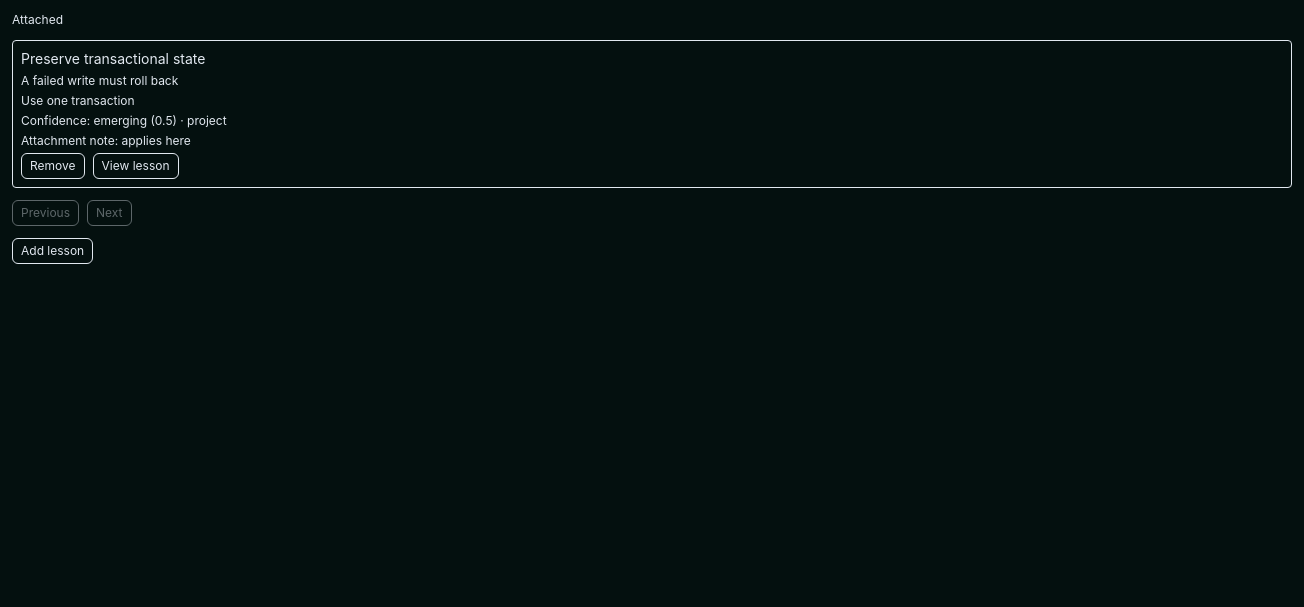
Test: attaches a searched lesson and prevents duplicate submissions while pending
Click the button "Add lesson".
click(53, 251)  # box x1=12 y1=238 x2=93 y2=264
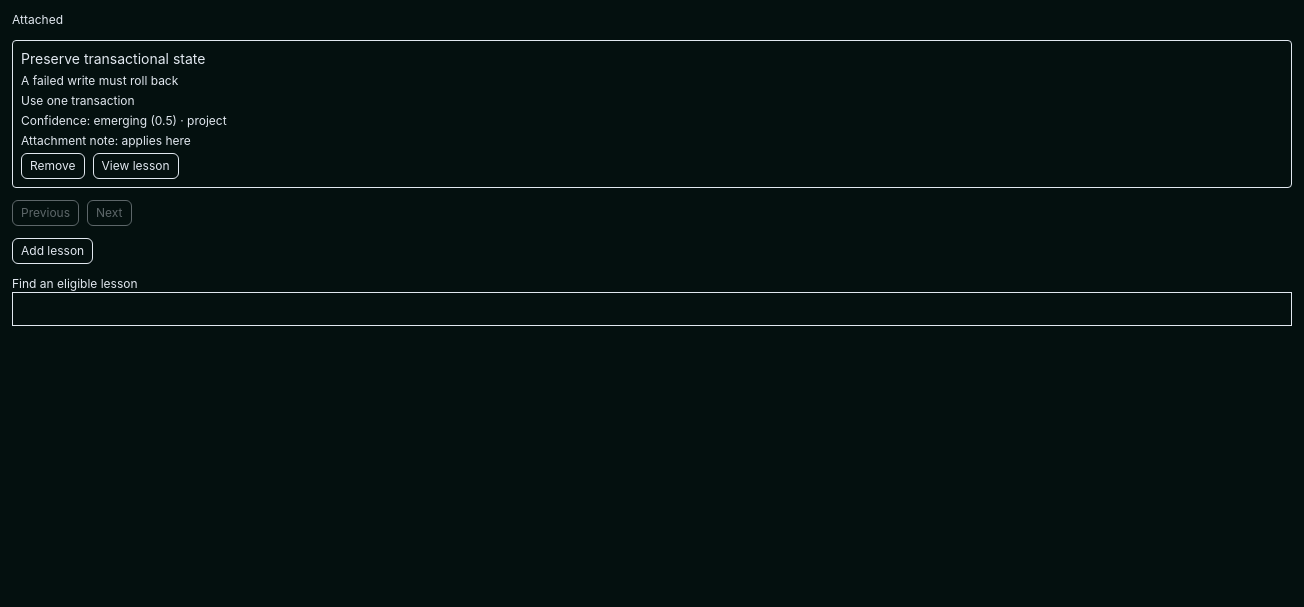
Type "transaction" into the field labelled "Find an eligible lesson".
click(652, 309); type("transaction")  # box x1=12 y1=292 x2=1292 y2=326
Wait 200 ms
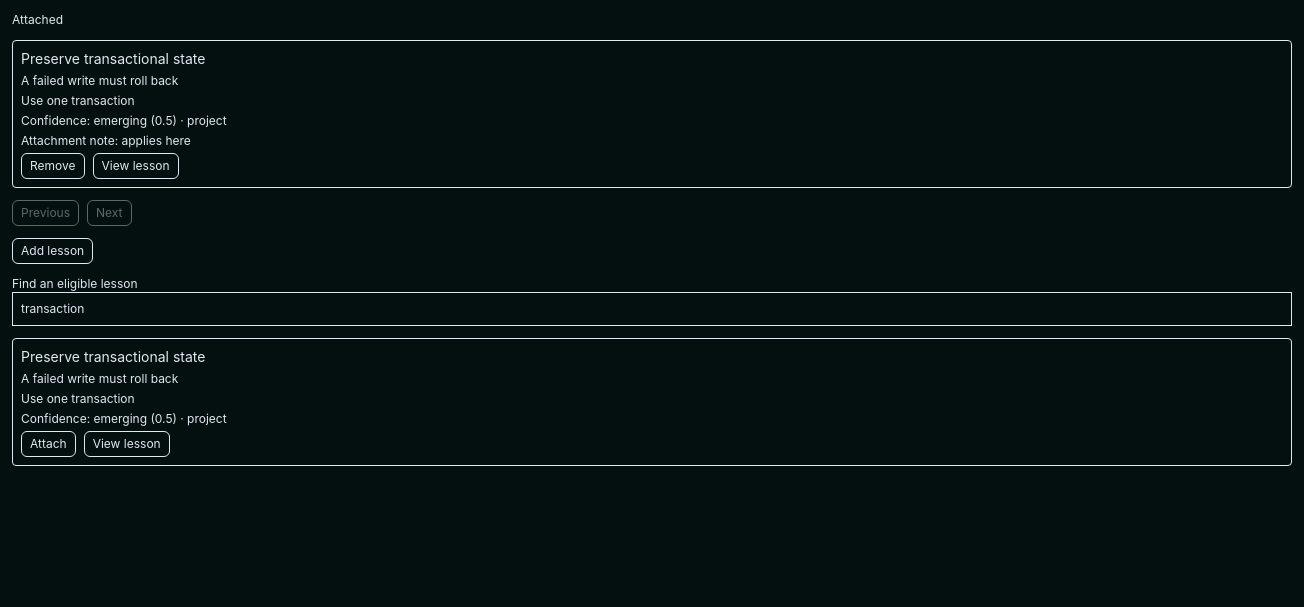
Click the button "Attach".
click(48, 444)  # box x1=21 y1=431 x2=76 y2=457
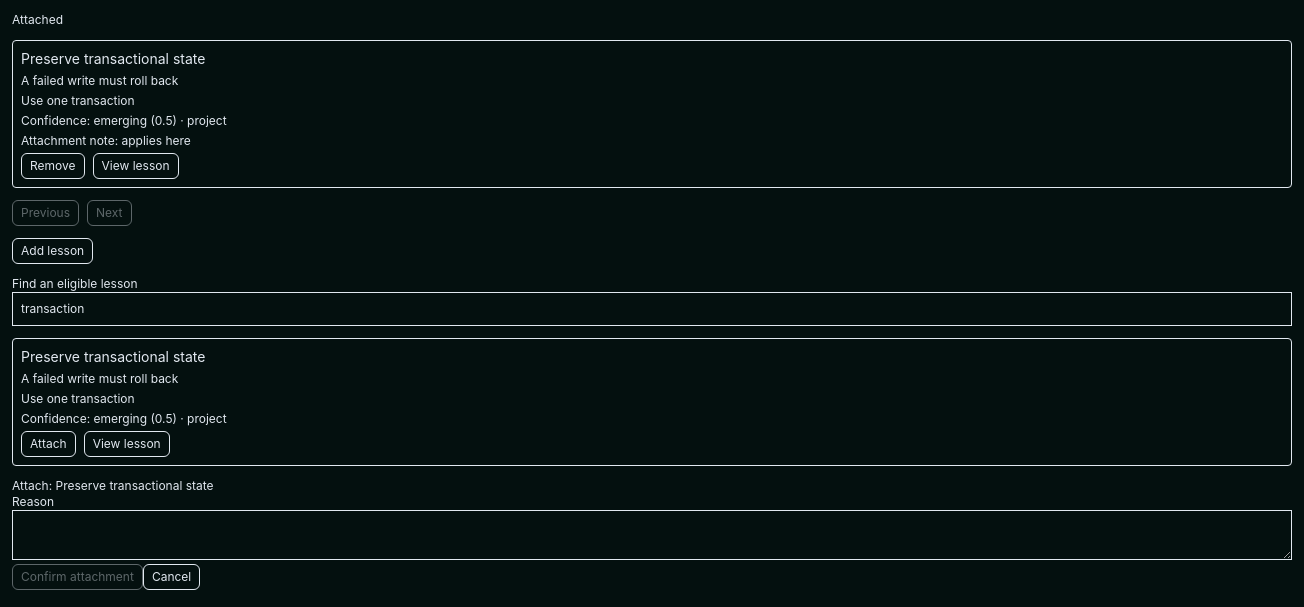
Now the button "Confirm attachment" is disabled, box x1=12 y1=564 x2=143 y2=590
Type "Applies to this function" into the text box labelled "Reason".
click(652, 535); type("Applies to this function")  # box x1=12 y1=510 x2=1292 y2=560
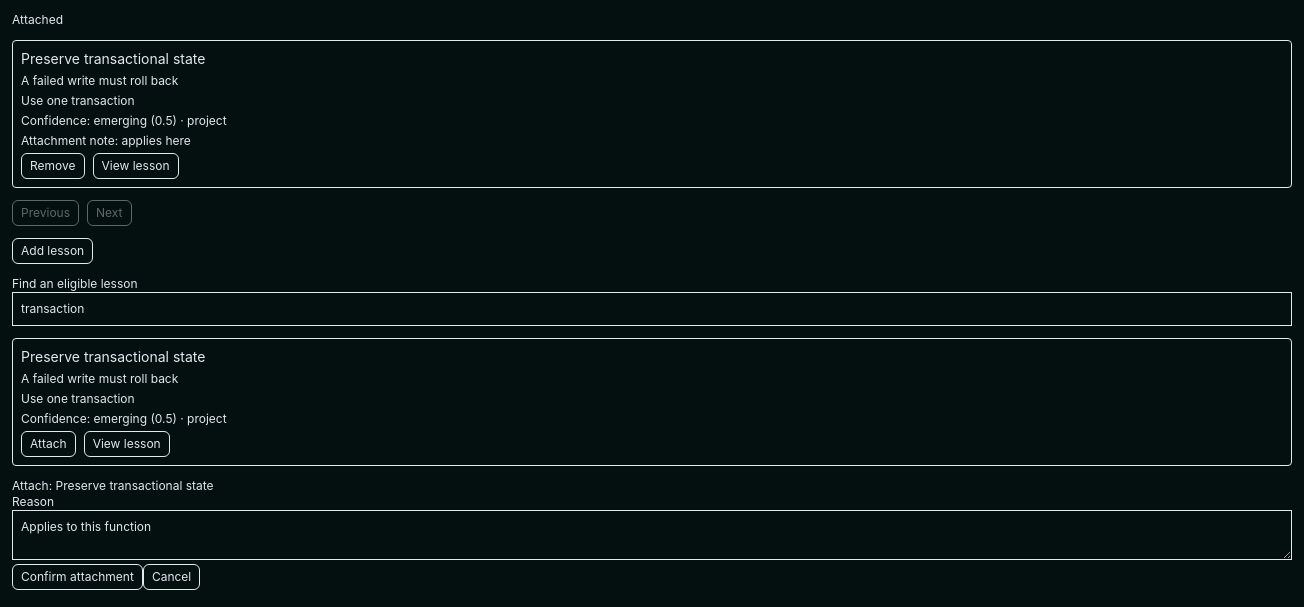
Submit the form "Reason", box x1=12 y1=478 x2=1292 y2=590
Submit the form "Reason", box x1=12 y1=478 x2=1292 y2=590
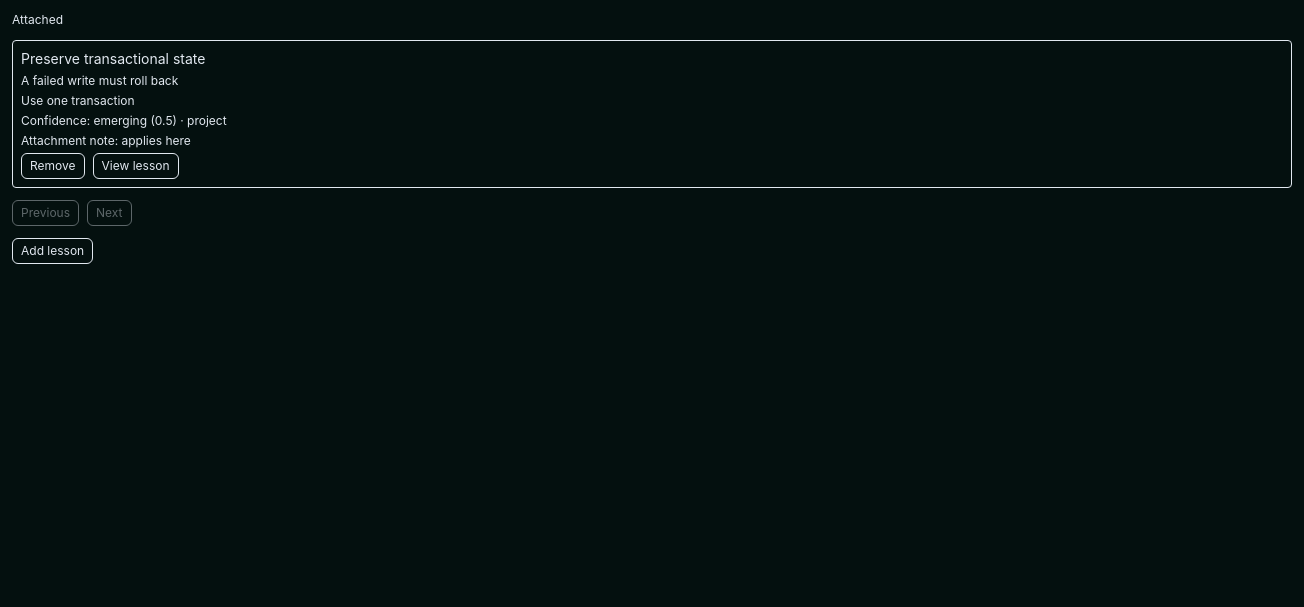
Now the label "Reason" is gone
